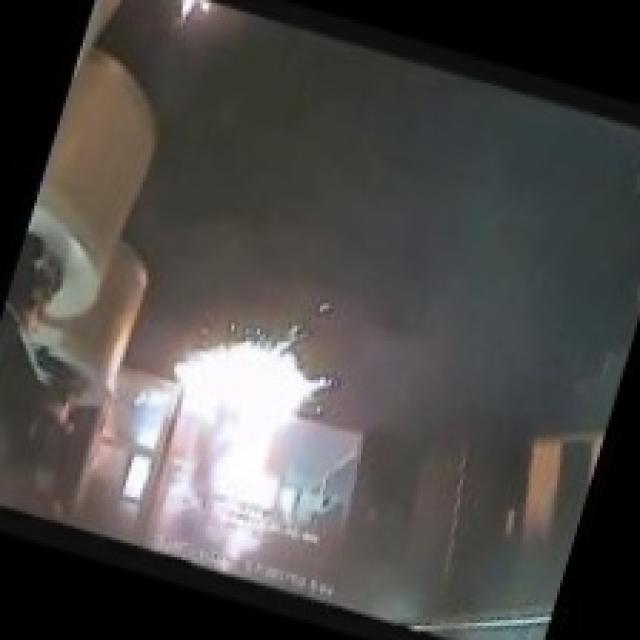fire: (133, 288, 401, 543)
